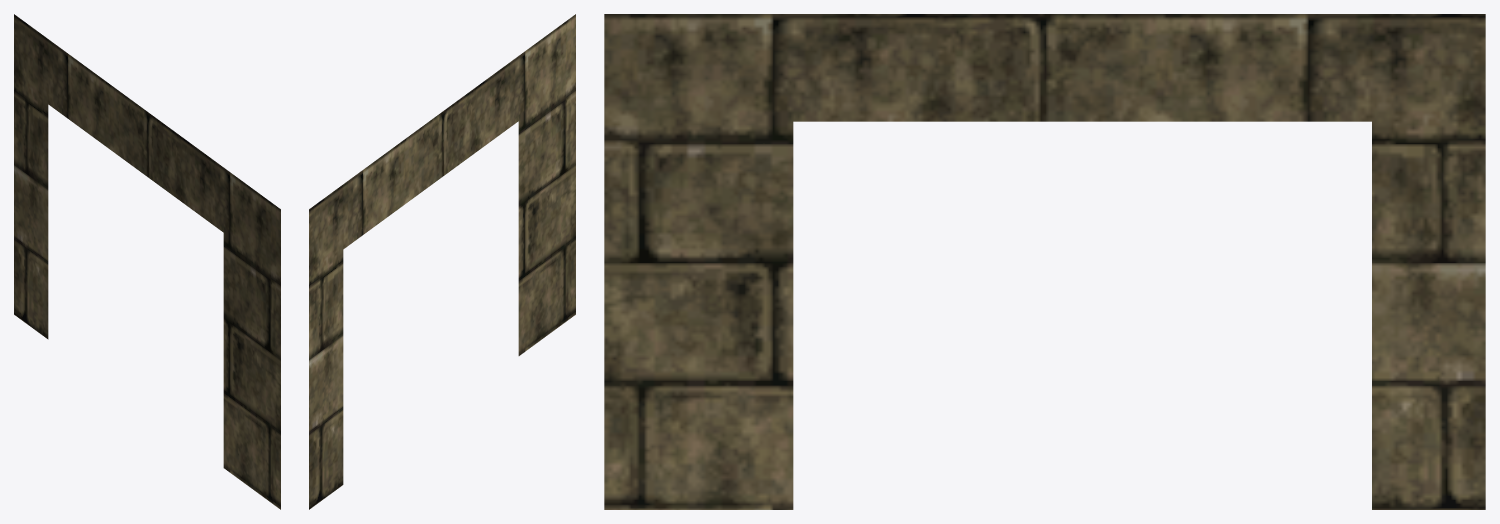
File: OVERHILL_A_01_OBJECT166.fbx
The picture shows the model from 3 angles, left to right: view 1: azimuth 30°, elevation 25°; view 2: azimuth 150°, elevation 25°; view 3: azimuth 270°, elevation 25°; orthographic projection. The views are drawn at different scales.
Parts seen in each view (by area): view 1: OVERHILL_A_01_OBJECT166; view 2: OVERHILL_A_01_OBJECT166; view 3: OVERHILL_A_01_OBJECT166.
Boxes of the visible parts, x1=… form: OVERHILL_A_01_OBJECT166: x1=14, y1=14, x2=280, y2=509; OVERHILL_A_01_OBJECT166: x1=309, y1=14, x2=575, y2=509; OVERHILL_A_01_OBJECT166: x1=604, y1=14, x2=1485, y2=509.
Size of the model in its own units: 0.0488 by 34378 by 55344.
Materials: 1 (1 with a texture image).
